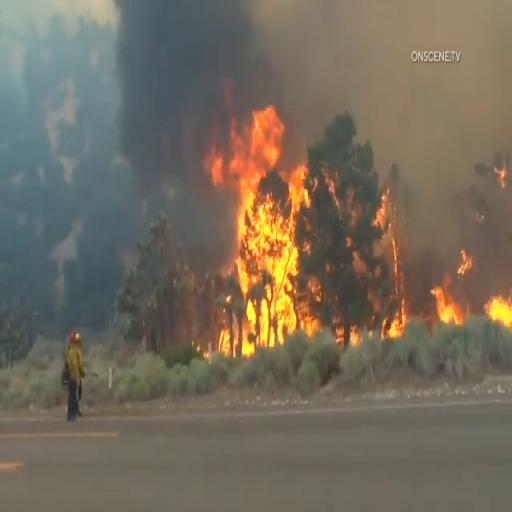fire: (230, 122, 299, 333), (428, 274, 512, 330)
smoke: (116, 12, 278, 107)
